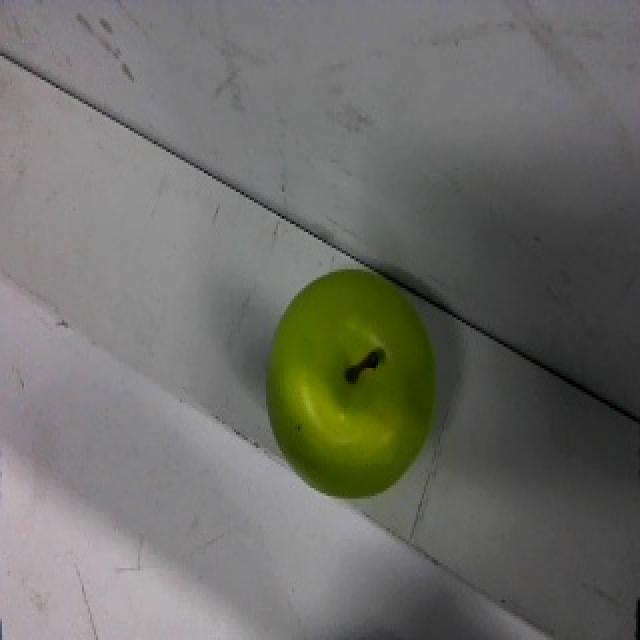apple: (264, 263, 438, 502)
